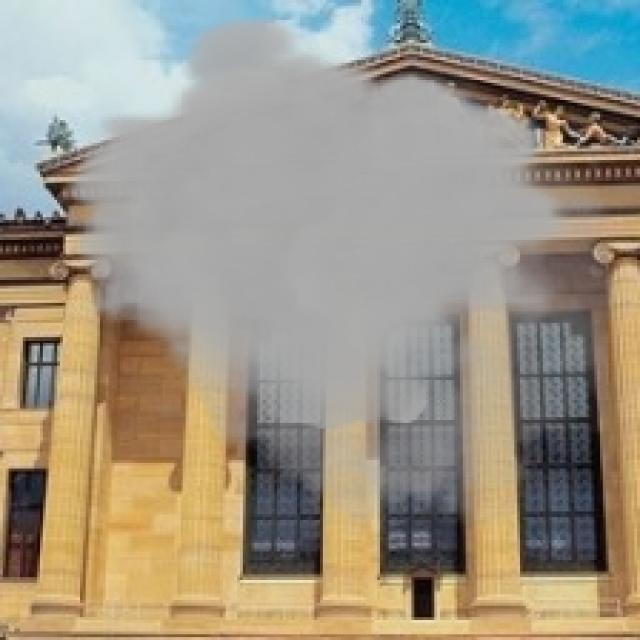Smoke: (60, 11, 609, 543)
